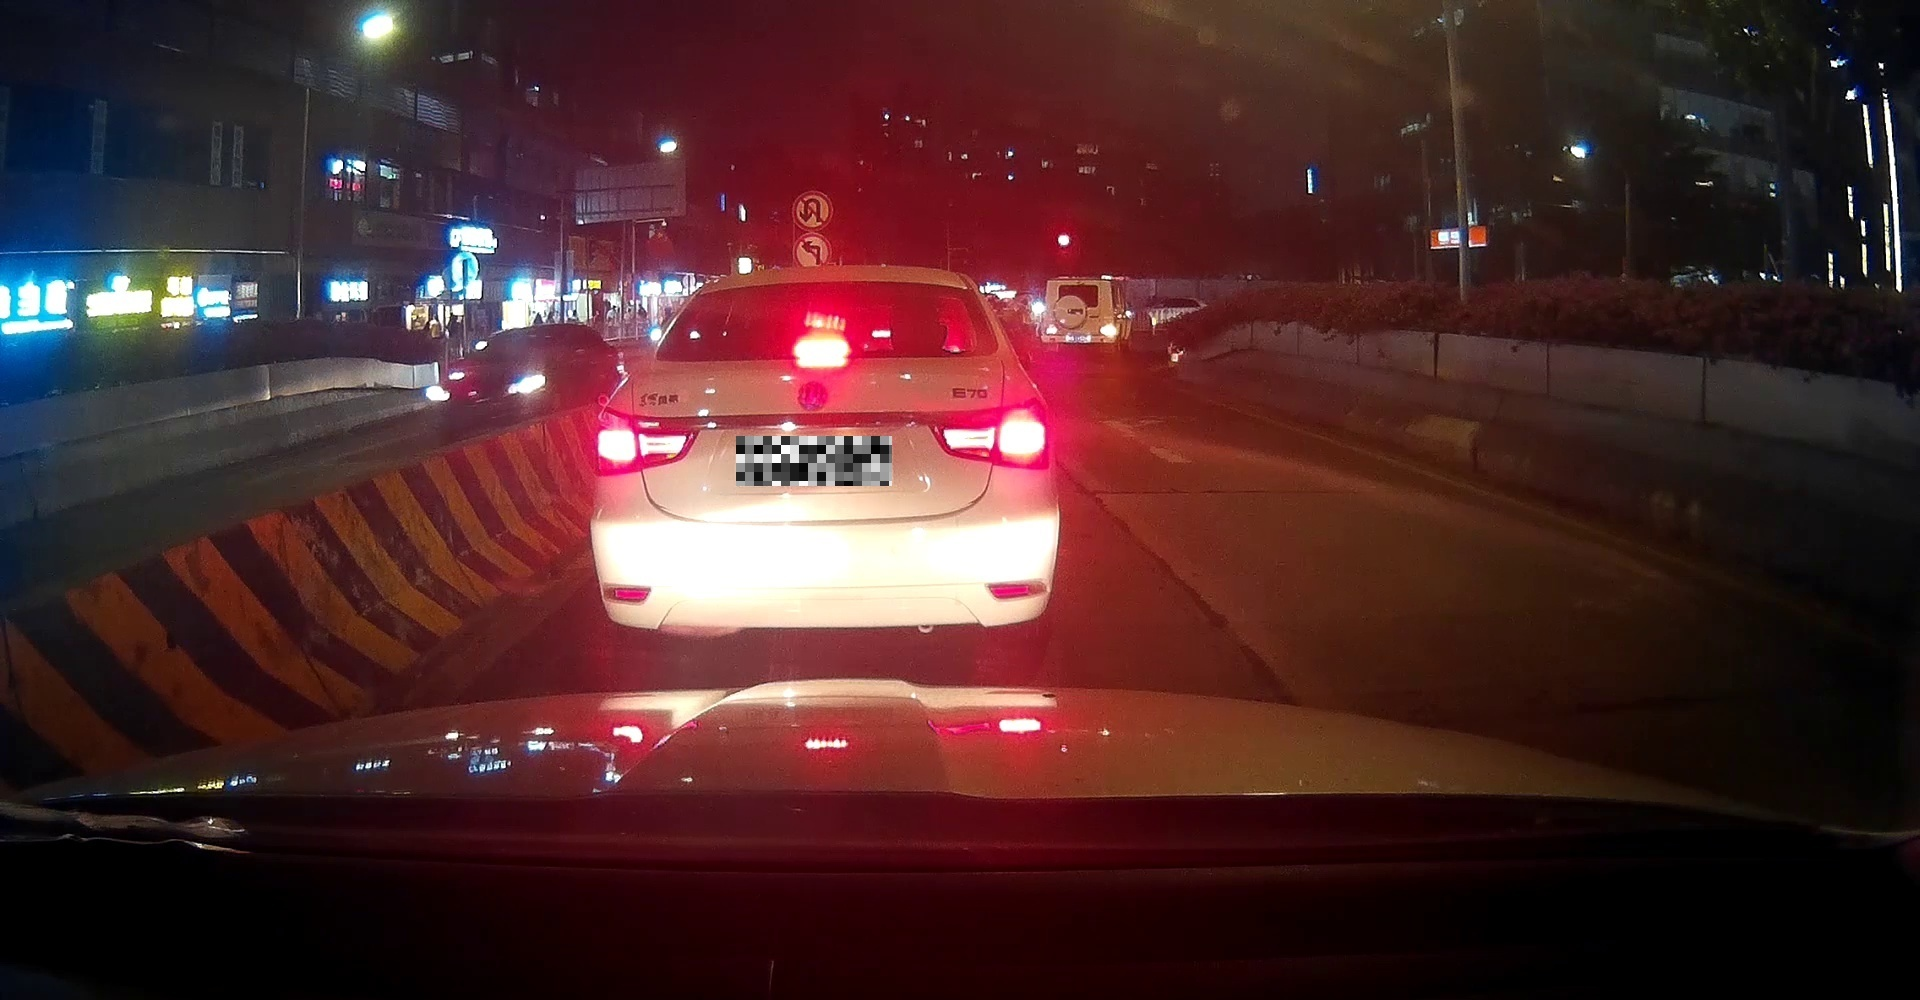L_light: (590, 405, 700, 478)
R_light: (924, 398, 1049, 470)
T_light: (794, 338, 850, 358)
night-brake: (588, 265, 1060, 676)
plate_1: (737, 437, 891, 486)
